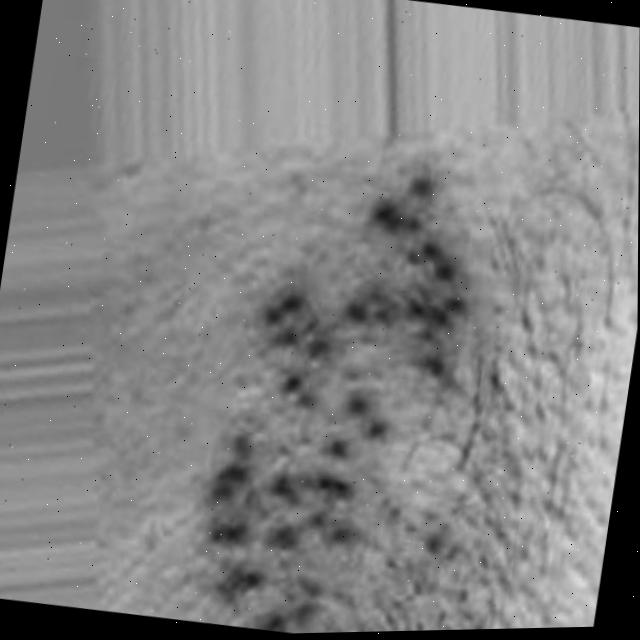Shingles: (192, 145, 476, 636)
